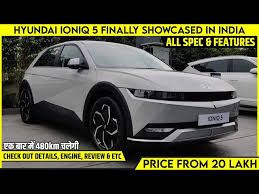Honda Ioniq: (15, 39, 244, 158)
